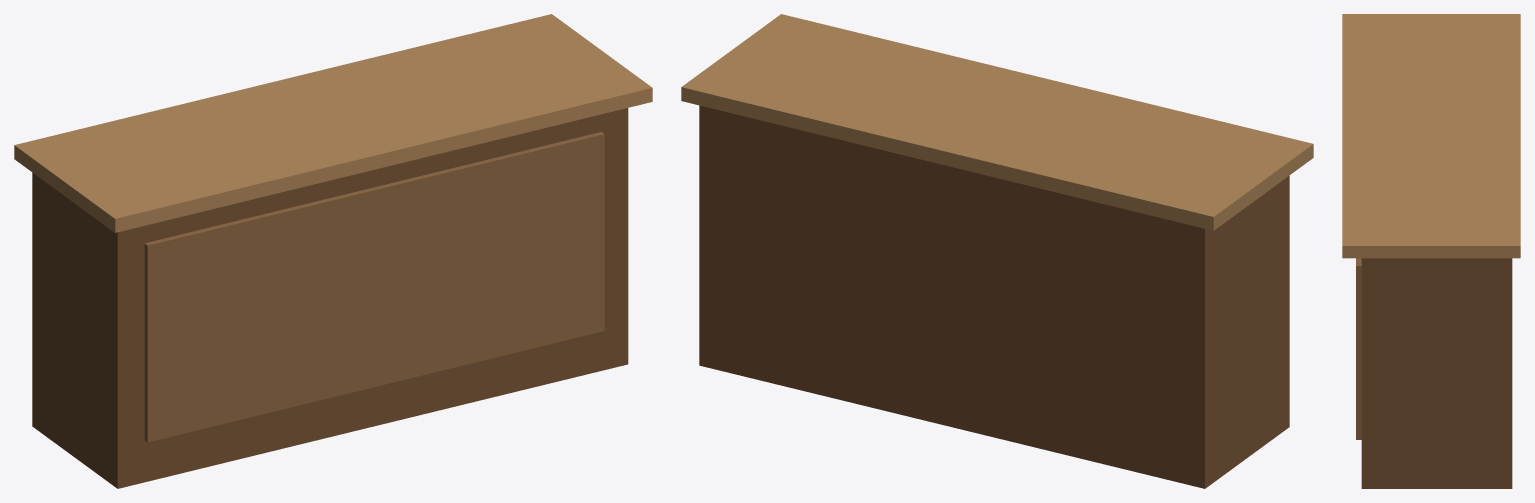
The model's file is counter_register.glb.
3 renders of one model, left to right at view 1: azimuth 30°, elevation 25°; view 2: azimuth 150°, elevation 25°; view 3: azimuth 270°, elevation 25°, orthographic. The views are drawn at different scales.
Parts seen in each view (by area): view 1: Part1, Part2, Part0; view 2: Part0, Part2; view 3: Part2, Part0, Part1.
Part boxes in pixels (x1,y1,x2,y2): Part1: (144,132,604,442); Part2: (14,14,652,232); Part0: (32,108,628,488); Part0: (699,105,1289,488); Part2: (681,14,1313,230); Part2: (1342,14,1520,258); Part0: (1361,258,1512,488); Part1: (1356,258,1361,439).
Bounding box in the file's own units: 2 × 1 × 0.65.
